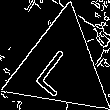L_NE: (33, 38, 87, 97)
